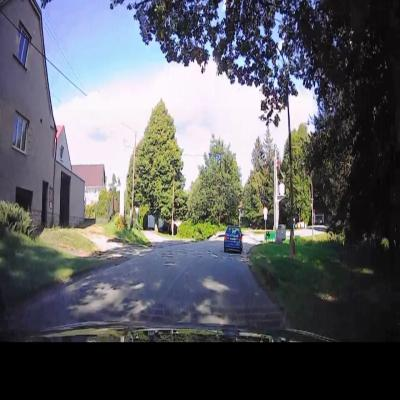clear-road: (10, 241, 279, 334)
